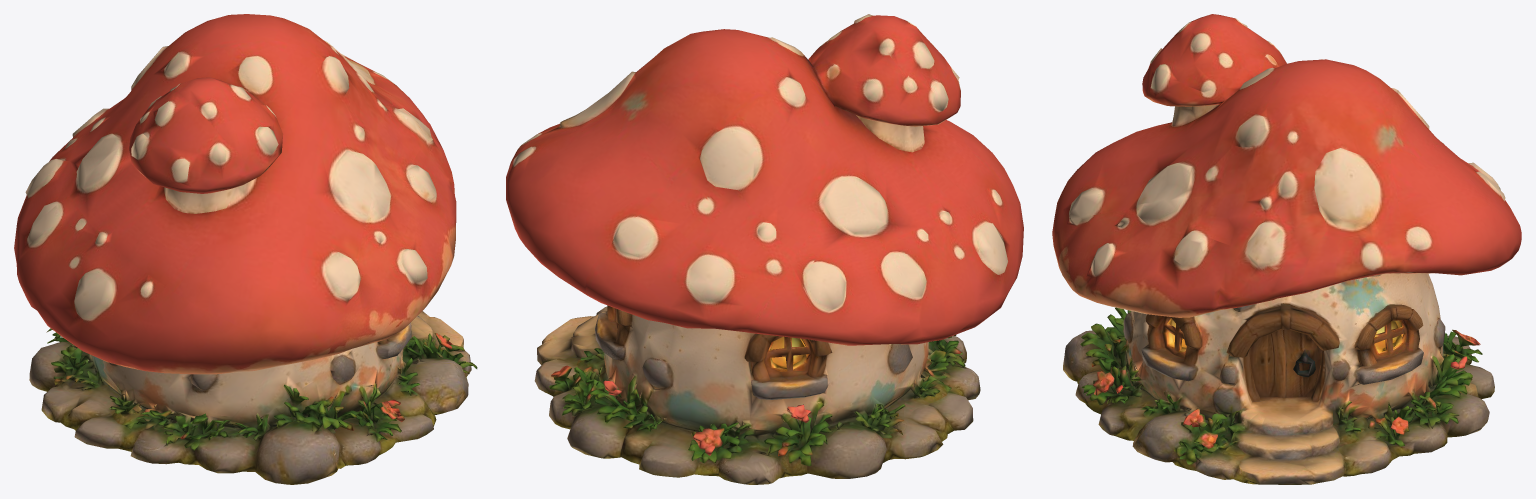
Rendered from mushroom-home-web.glb.
3 renders of one model, left to right at view 1: azimuth 30°, elevation 25°; view 2: azimuth 150°, elevation 25°; view 3: azimuth 270°, elevation 25°, orthographic. The views are drawn at different scales.
Parts seen in each view (by area): view 1: mushroom-home-part-0; view 2: mushroom-home-part-0; view 3: mushroom-home-part-0.
Part boxes in pixels (left/top/right/bottom): mushroom-home-part-0: left=14, top=14, right=477, bottom=484; mushroom-home-part-0: left=506, top=14, right=1023, bottom=484; mushroom-home-part-0: left=1052, top=14, right=1521, bottom=484.
Size of the model in its own units: 1.21 by 0.997 by 1.26.
1 material, 1 textured.
